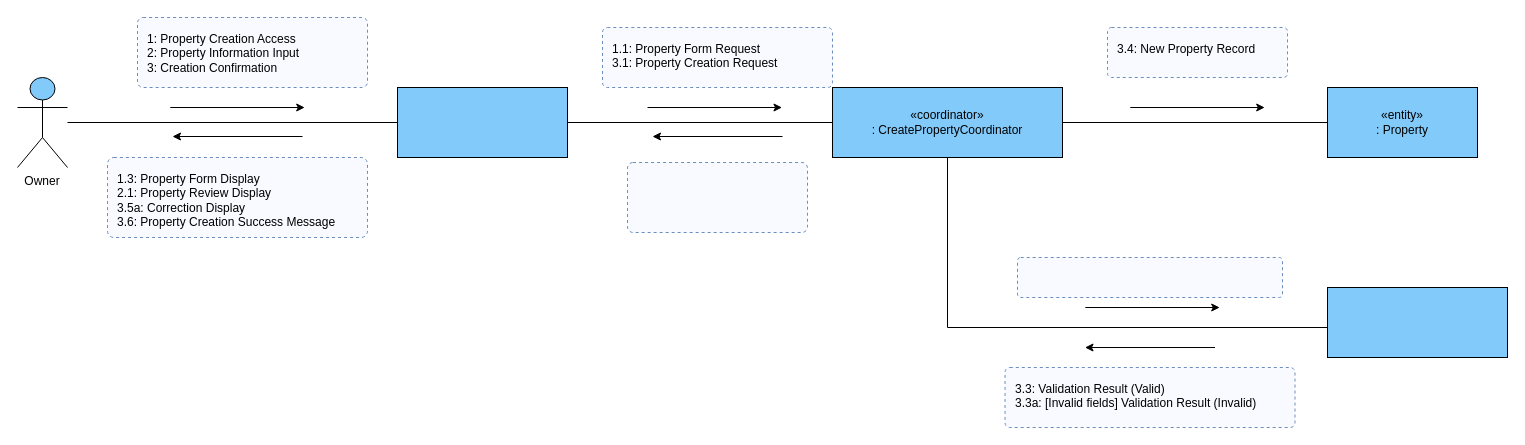
The diagram is 1525 pixels wide and 445 high, and some of its shapes have lost their labels. Each missing label, with the centre of its shape:
"1.2: Property Creation Form 3.4a: Correction Prompt 3.5: Creation Success" goes at (x=717, y=197).
"3.2: Required Fields Validation Check" goes at (x=1149, y=277).
"«business logic» : PropertyRules" goes at (x=1417, y=322).
"«user interaction» : OwnerUI" goes at (x=482, y=122).
